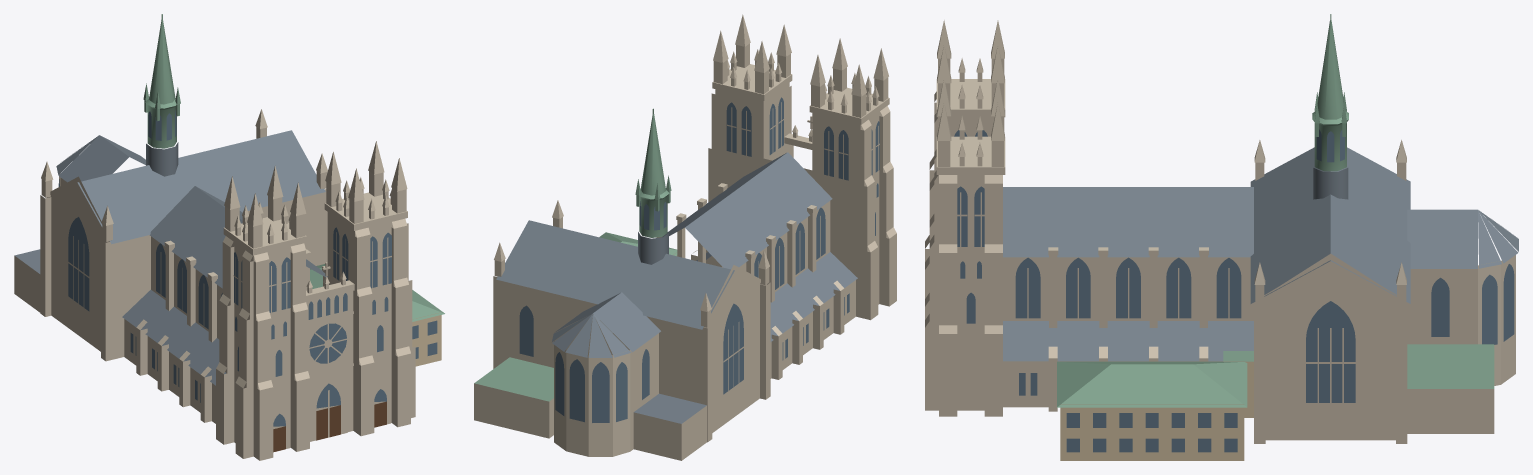
File: det-blessed-sacrament.glb
3 renders of one model, left to right at view 1: azimuth 30°, elevation 25°; view 2: azimuth 150°, elevation 25°; view 3: azimuth 270°, elevation 25°, orthographic. The views are drawn at different scales.
Parts seen in each view (by area): view 1: Cathedral of the Most Blessed Sacrament; view 2: Cathedral of the Most Blessed Sacrament; view 3: Cathedral of the Most Blessed Sacrament.
Boxes of the visible parts, x1,y1,x2,y2 form: Cathedral of the Most Blessed Sacrament: (14, 14, 444, 460); Cathedral of the Most Blessed Sacrament: (474, 14, 896, 460); Cathedral of the Most Blessed Sacrament: (925, 14, 1518, 460).
Bounding box in the file's own units: 41.7 × 47 × 71.65.
